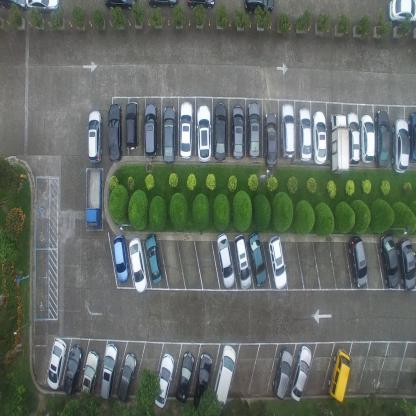car: (211, 344, 237, 408), (288, 344, 312, 404), (327, 348, 350, 403), (330, 112, 350, 175), (247, 231, 268, 288), (272, 347, 293, 402), (216, 232, 236, 288), (154, 352, 174, 408), (193, 352, 212, 410), (348, 234, 368, 289), (62, 344, 83, 396), (128, 236, 147, 293), (116, 351, 137, 402), (100, 342, 118, 401), (79, 349, 99, 402), (268, 234, 287, 289), (380, 233, 399, 288), (234, 232, 252, 290), (175, 352, 195, 404), (46, 338, 66, 390), (86, 166, 102, 229), (398, 238, 416, 291), (178, 100, 194, 159), (392, 118, 409, 173), (107, 102, 122, 164), (213, 101, 228, 161), (87, 108, 103, 164), (280, 103, 295, 162), (196, 105, 211, 164), (113, 233, 130, 284), (145, 236, 162, 286), (346, 111, 361, 167), (376, 109, 390, 169), (246, 100, 260, 160), (162, 104, 176, 164), (297, 107, 312, 162), (312, 110, 327, 165), (144, 101, 158, 159), (263, 110, 277, 167), (360, 114, 375, 163), (388, 0, 416, 26), (231, 104, 244, 160), (125, 100, 139, 152), (25, 0, 61, 14), (243, 0, 275, 14), (102, 0, 138, 12), (0, 0, 28, 14), (408, 111, 415, 163), (186, 0, 216, 12), (147, 0, 179, 8)
